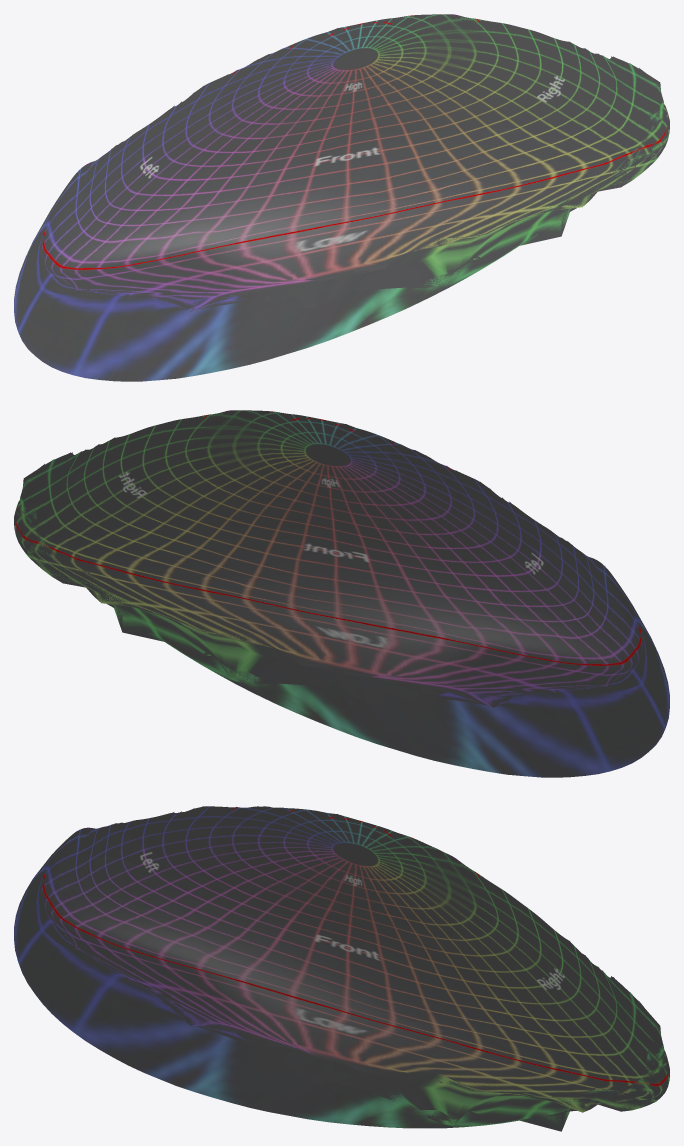
Rendered from warpmesh_v7smooth_manual_blender.obj.
The picture shows the model from 3 angles, top to bottom: view 1: azimuth 30°, elevation 25°; view 2: azimuth 150°, elevation 25°; view 3: azimuth 330°, elevation 25°; orthographic projection.
Parts seen in each view (by area): view 1: warpmesh_v7; view 2: warpmesh_v7; view 3: warpmesh_v7.
Boxes of the visible parts, bbox=[...] form: warpmesh_v7: bbox=[14, 14, 669, 381]; warpmesh_v7: bbox=[14, 410, 669, 777]; warpmesh_v7: bbox=[14, 806, 669, 1131].
Bounding box in the file's own units: 0.9229 × 0.424 × 0.000143.
